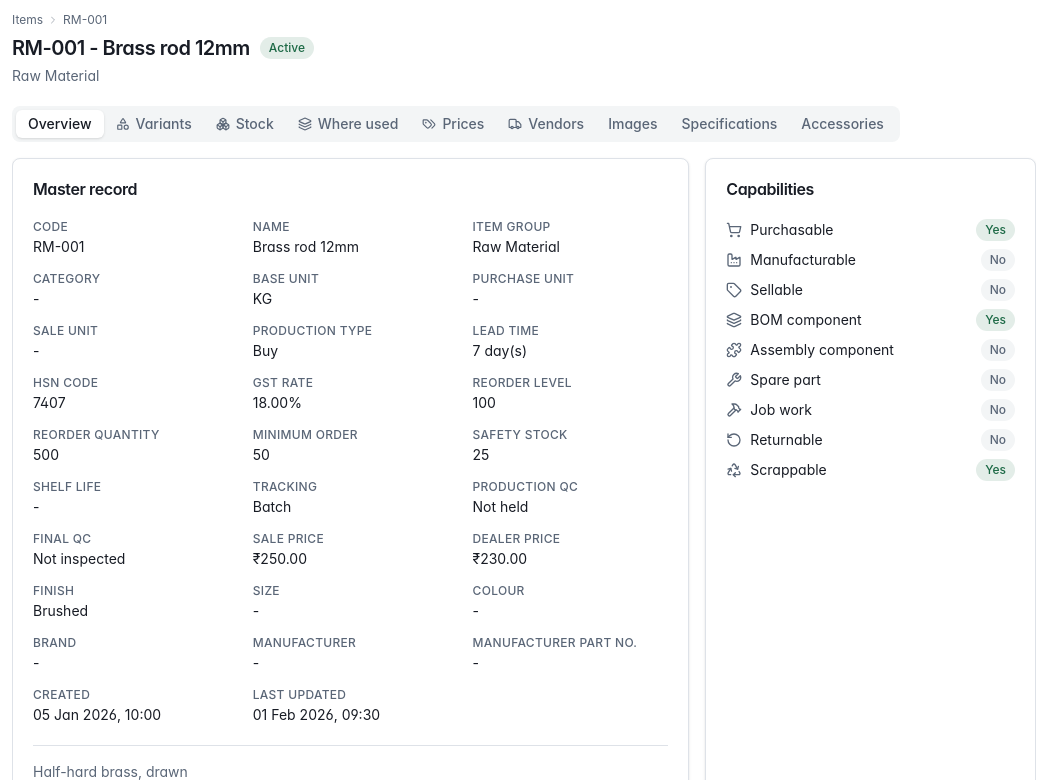
Scenario: the tab panels › reads stock from the summary endpoint and totals the item, not the page
Expected: the heading "RM-001 - Brass rod 12mm" is shown, 12,34 -> 250,62
Click the tab "Stock": (245, 124) 204,110 -> 286,138
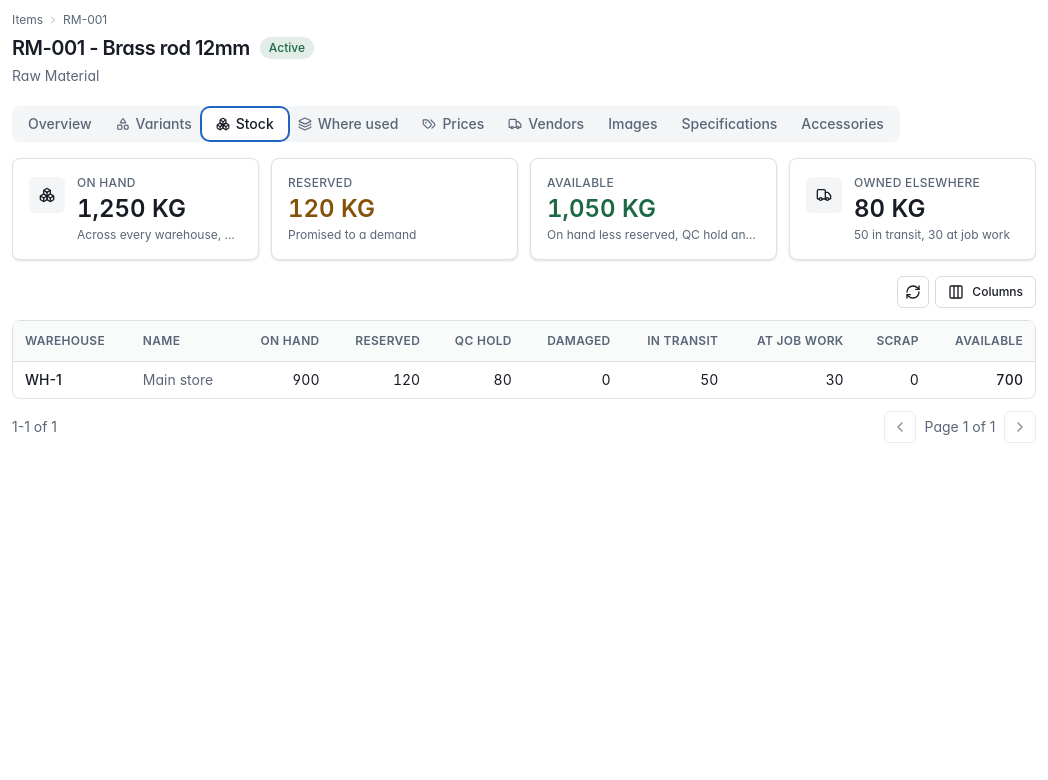
Result: the text "WH-1" is shown at 25,370 -> 62,388
Result: the text "1,250 KG" is shown at 77,194 -> 186,223
Result: the text "900" is shown at 238,361 -> 332,398
